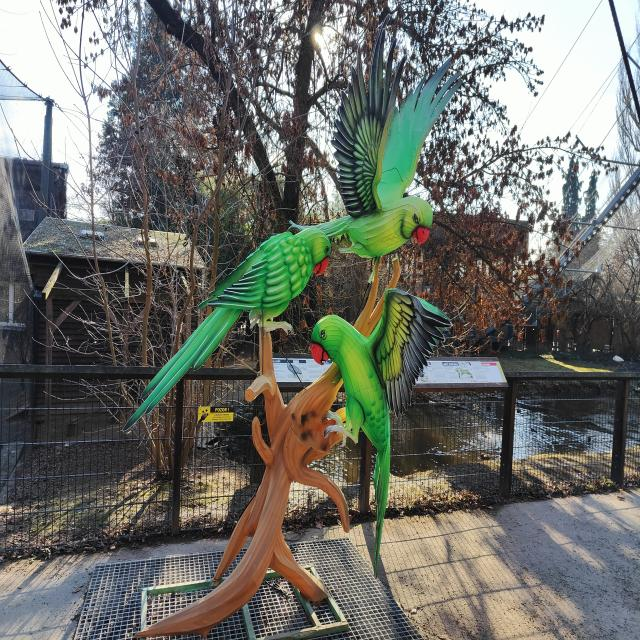bird: (288, 13, 463, 283), (122, 227, 332, 432), (312, 288, 452, 580)
